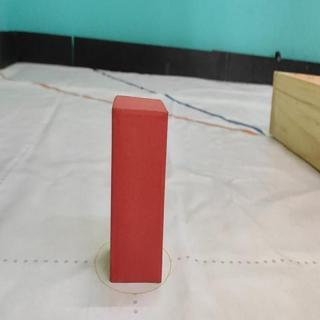redbox: (111, 93, 168, 284)
